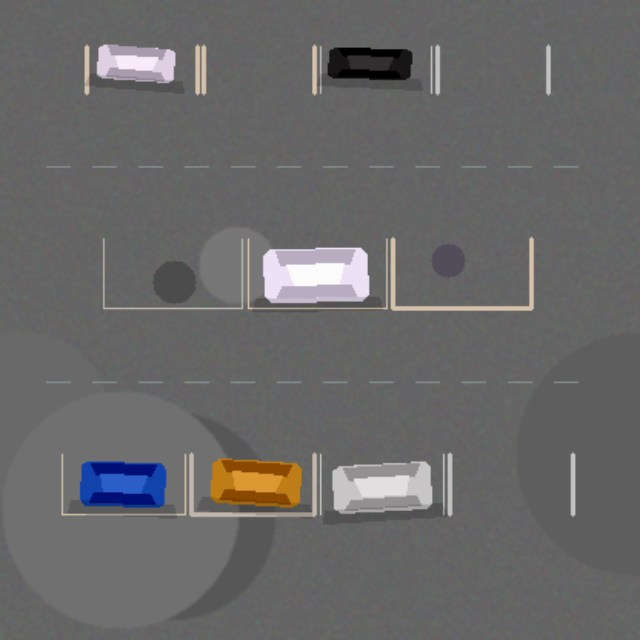space-empty: (103, 238, 242, 308), (392, 238, 531, 308), (449, 454, 572, 514), (203, 46, 314, 92), (437, 46, 548, 92)
space-occupied: (248, 238, 386, 308), (62, 454, 185, 514), (191, 454, 314, 514), (320, 454, 443, 514), (86, 46, 197, 92), (320, 46, 431, 92)
